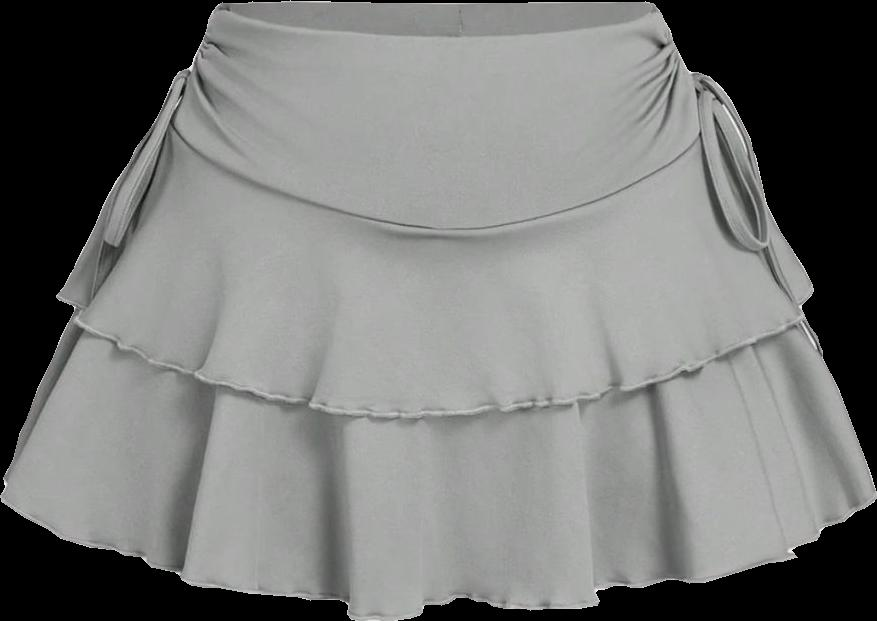Hemline: (0, 471, 876, 620), (58, 285, 816, 421)
Waistline: (170, 114, 708, 235), (215, 6, 662, 47)
